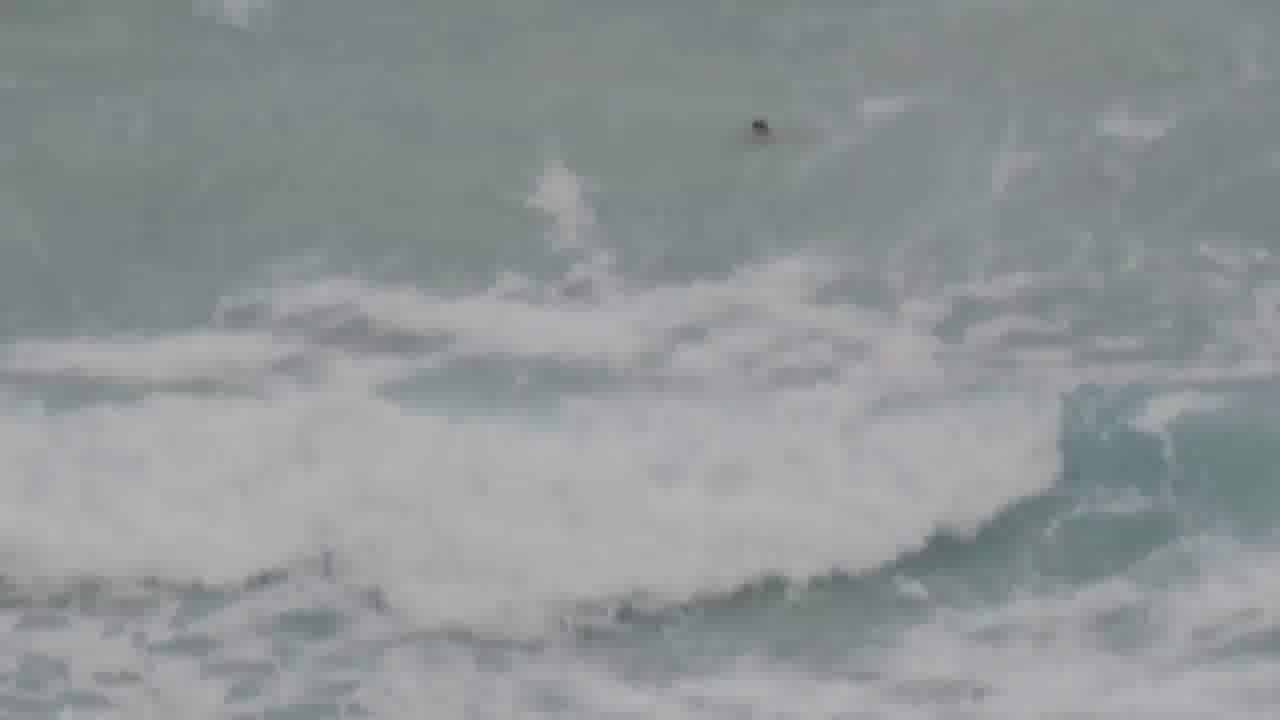swimmer: (740, 109, 788, 156)
